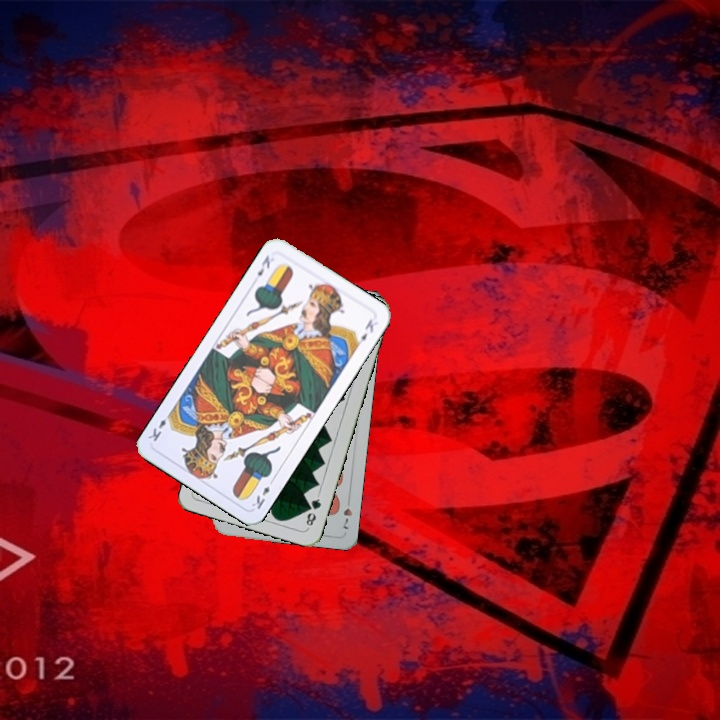EK: (247, 474, 277, 512), (253, 251, 273, 279)
G8: (302, 491, 324, 531)
H7: (339, 493, 355, 532)
